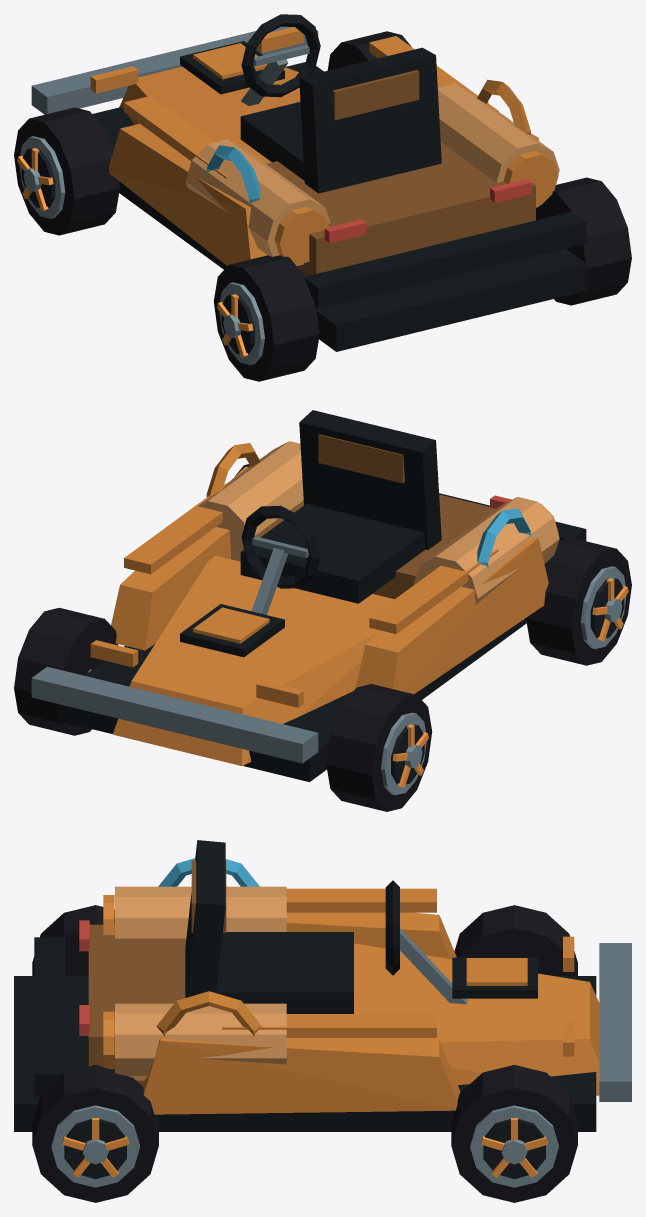
The model's file is kart.glb.
3 views of the same model, one above another, from view 1: azimuth 30°, elevation 25°; view 2: azimuth 150°, elevation 25°; view 3: azimuth 270°, elevation 25° (orthographic). The views are drawn at different scales.
Visible parts, largest first — view 1: chassis, wheel-rear-left, wheel-front-left, wheel-rear-right, wheel-front-right; view 2: chassis, wheel-front-left, wheel-rear-left, wheel-front-right; view 3: chassis, wheel-front-right, wheel-rear-right, wheel-front-left, wheel-rear-left.
Boxes of the visible parts, <box> form: chassis: <box>31,14,587,351</box>; wheel-rear-left: <box>213,255,319,381</box>; wheel-front-left: <box>14,107,119,235</box>; wheel-rear-right: <box>536,177,631,305</box>; wheel-front-right: <box>327,31,411,70</box>; chassis: <box>31,410,586,781</box>; wheel-front-left: <box>326,684,432,811</box>; wheel-rear-left: <box>526,537,631,665</box>; wheel-front-right: <box>14,607,118,735</box>; chassis: <box>14,840,631,1131</box>; wheel-front-right: <box>451,1065,577,1202</box>; wheel-rear-right: <box>32,1065,158,1202</box>; wheel-front-left: <box>454,905,577,975</box>; wheel-rear-left: <box>32,905,114,975</box>.
Size of the model in its own units: 2.29 by 1.3 by 3.02.
